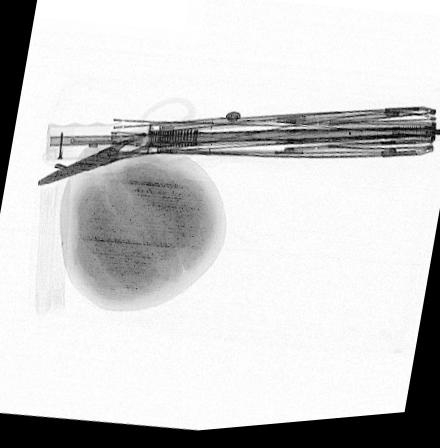Scissors: (31, 97, 209, 190)
